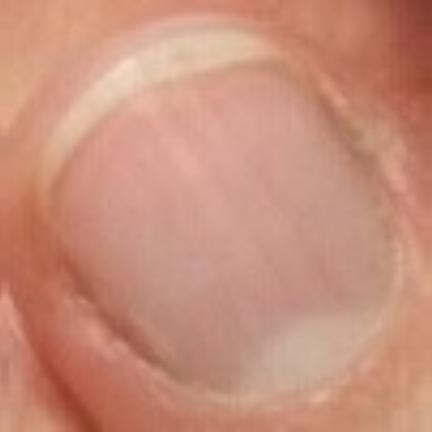Nail: (35, 32, 397, 398)
